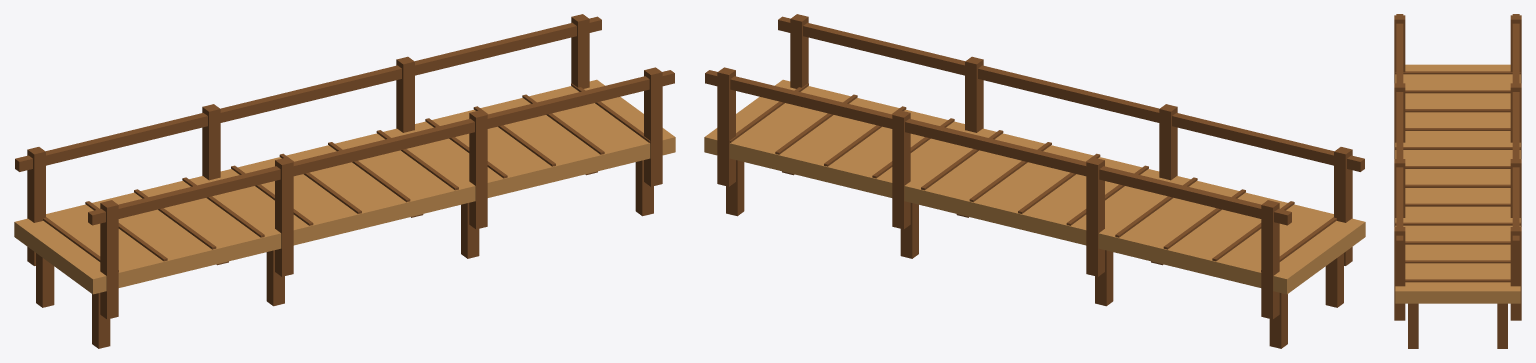
File: town_wooden_footbridge.glb
The picture shows the model from 3 angles, left to right: view 1: azimuth 30°, elevation 25°; view 2: azimuth 150°, elevation 25°; view 3: azimuth 270°, elevation 25°; orthographic projection. The views are drawn at different scales.
Parts seen in each view (by area): view 1: wooden_footbridge; view 2: wooden_footbridge; view 3: wooden_footbridge.
Part boxes in pixels (x1,y1,x2,y2): wooden_footbridge: (14,14,675,348); wooden_footbridge: (704,14,1365,348); wooden_footbridge: (1394,14,1521,348).
Size of the model in its own units: 6 by 1.45 by 1.42.
